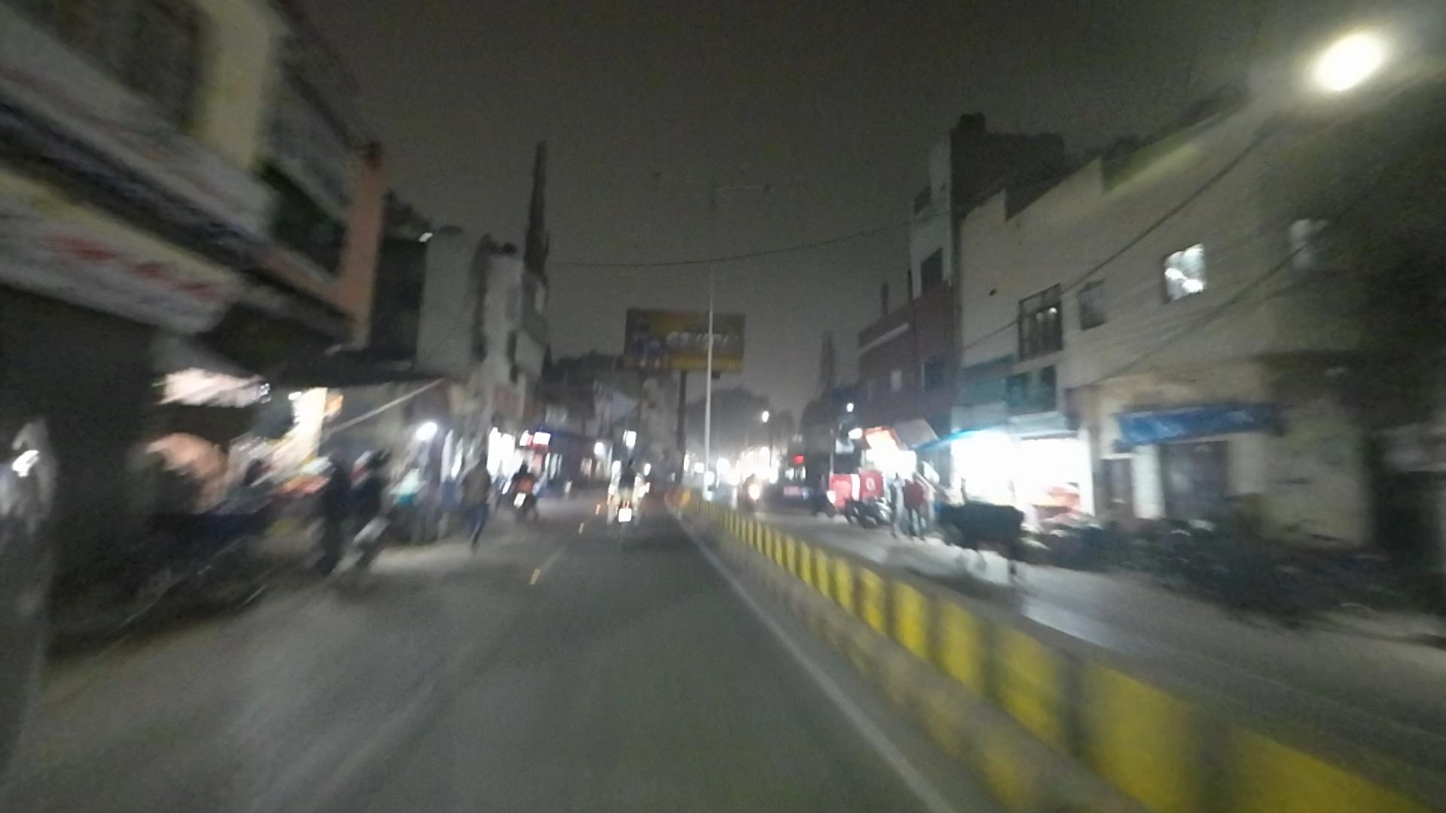streetlight: (645, 165, 702, 190), (725, 178, 776, 199)
